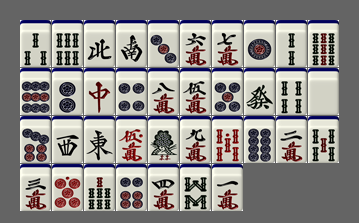0m: (116, 116, 147, 163)
0p: (52, 164, 83, 211)
0s: (212, 116, 243, 163)
1m: (212, 164, 243, 211)
1p: (244, 20, 275, 67)
1s: (148, 116, 179, 163)
1z: (84, 116, 115, 163)
2m: (276, 116, 307, 163)
2p: (52, 68, 83, 115)
2s: (276, 20, 307, 67)
2z: (116, 20, 147, 67)
3m: (20, 164, 51, 211)
3p: (148, 20, 179, 67)
3s: (20, 20, 51, 67)
3z: (52, 116, 83, 163)
4m: (148, 164, 179, 211)
4p: (116, 68, 147, 115)
4s: (276, 68, 307, 115)
4z: (84, 20, 115, 67)
5m: (180, 68, 211, 115)
5p: (212, 68, 243, 115)
5s: (308, 116, 339, 163)
5z: (308, 68, 339, 115)
6m: (180, 20, 211, 67)
6p: (116, 164, 147, 211)
6s: (52, 20, 83, 67)
6z: (244, 68, 275, 115)
7m: (212, 20, 243, 67)
7p: (20, 116, 51, 163)
7s: (84, 164, 115, 211)
7z: (84, 68, 115, 115)
8m: (148, 68, 179, 115)
8p: (244, 116, 275, 163)
8s: (180, 164, 211, 211)
9m: (180, 116, 211, 163)
9p: (20, 68, 51, 115)
9s: (308, 20, 339, 67)
